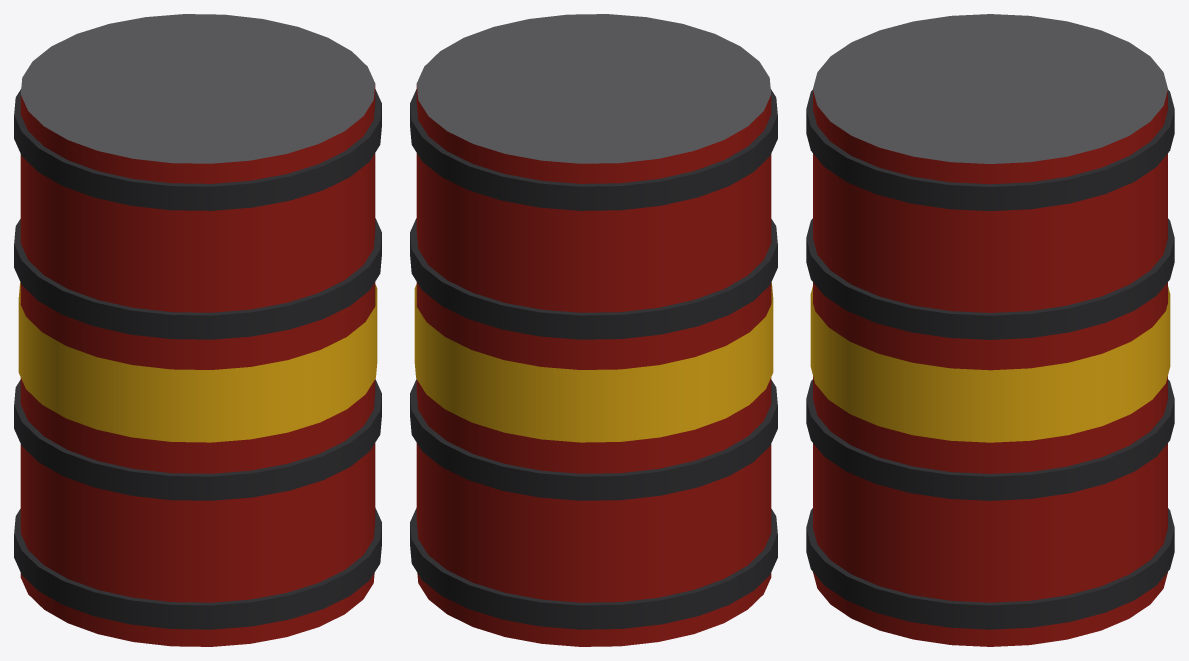
File: barrel.obj
The picture shows the model from 3 angles, left to right: view 1: azimuth 30°, elevation 25°; view 2: azimuth 150°, elevation 25°; view 3: azimuth 270°, elevation 25°; orthographic projection.
Parts seen in each view (by area): view 1: BarrelPaint_0, BarrelRing_2, BarrelTop_1, BarrelStripe_3; view 2: BarrelPaint_0, BarrelRing_2, BarrelTop_1, BarrelStripe_3; view 3: BarrelPaint_0, BarrelRing_2, BarrelTop_1, BarrelStripe_3.
Part boxes in pixels (x1=…): BarrelPaint_0: x1=20, y1=84, x2=375, y2=646; BarrelRing_2: x1=14, y1=89, x2=381, y2=629; BarrelTop_1: x1=20, y1=14, x2=375, y2=163; BarrelStripe_3: x1=18, y1=282, x2=377, y2=442; BarrelPaint_0: x1=416, y1=84, x2=771, y2=646; BarrelRing_2: x1=410, y1=89, x2=777, y2=629; BarrelTop_1: x1=416, y1=14, x2=771, y2=163; BarrelStripe_3: x1=414, y1=282, x2=773, y2=442; BarrelPaint_0: x1=813, y1=90, x2=1167, y2=646; BarrelRing_2: x1=806, y1=89, x2=1174, y2=629; BarrelTop_1: x1=813, y1=14, x2=1167, y2=163; BarrelStripe_3: x1=810, y1=286, x2=1170, y2=442.
Size of the model in its own units: 0.83 by 1.2 by 0.83.
